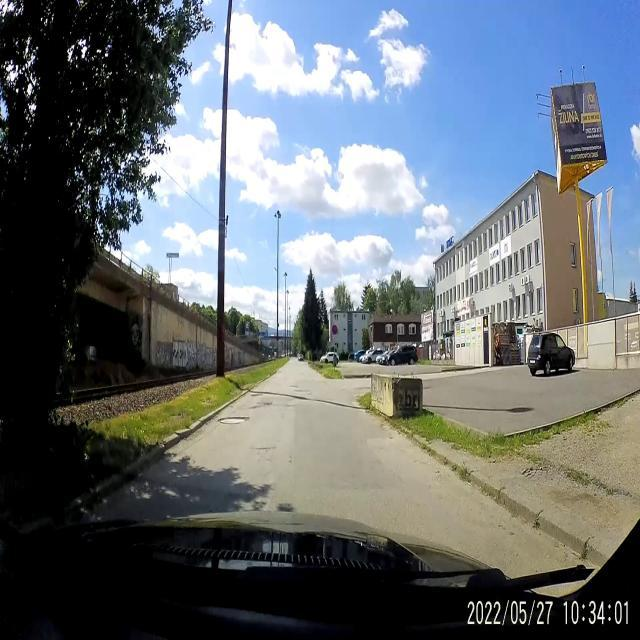Pothole: (217, 409, 250, 434), (252, 444, 278, 454), (252, 399, 273, 411)
